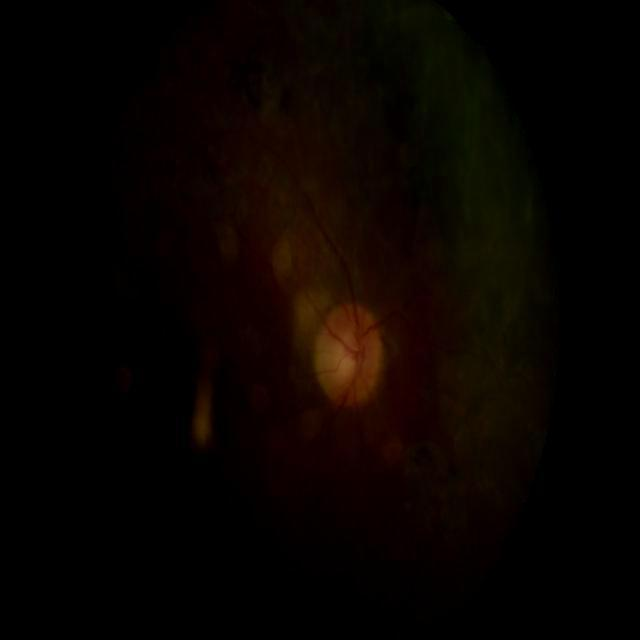cup: (338, 325, 362, 391)
disk: (312, 304, 385, 406)
